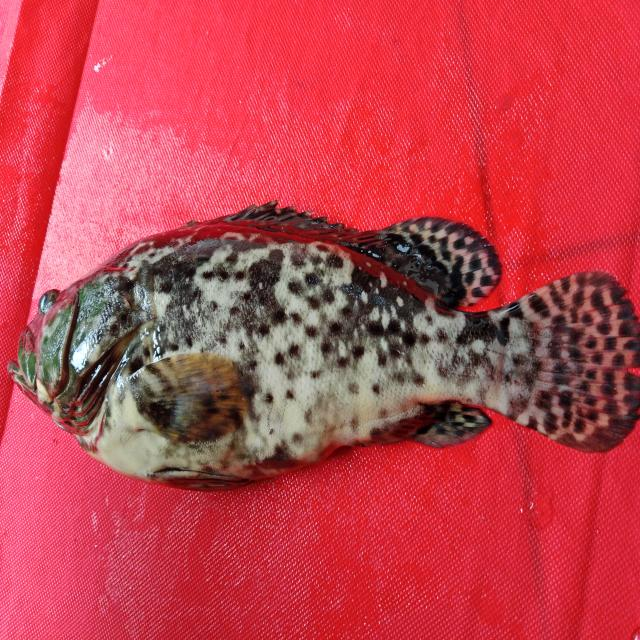ikan: (6, 187, 631, 498)
